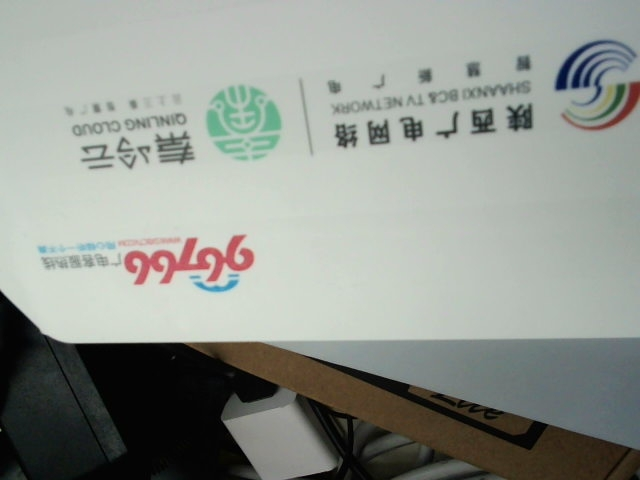AE_QinLing: (54, 77, 287, 189)
